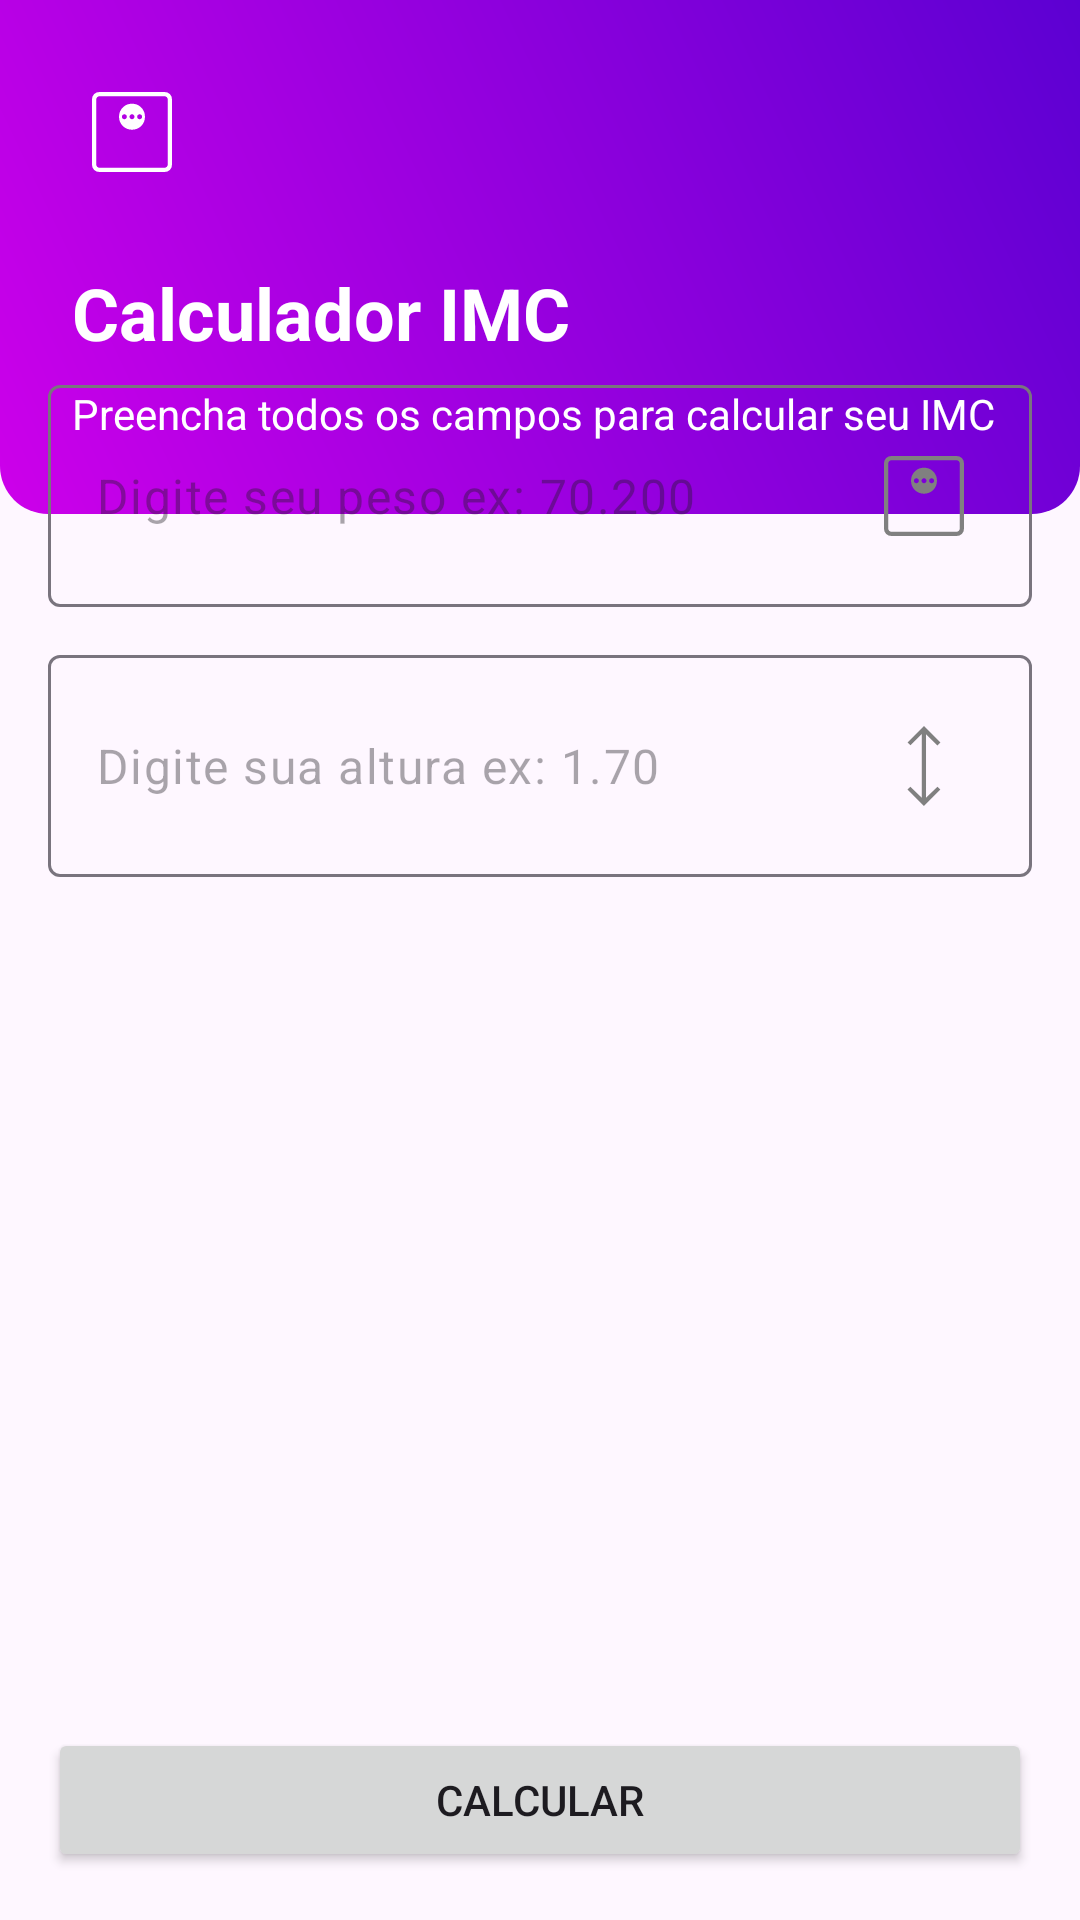

Screen size 1080px×1920px. Icon name, then its box in pixels as rect(x1, y1, x2, y2):
weight: rect(92, 92, 172, 172)
